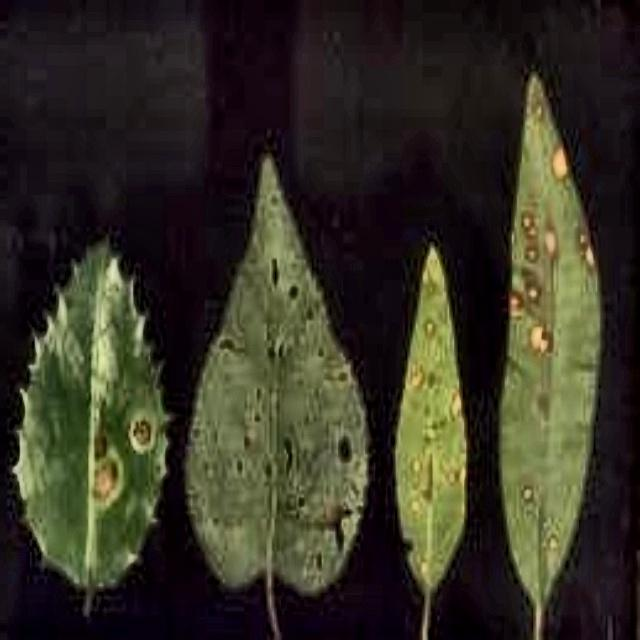shot_hole: (182, 126, 376, 638)
